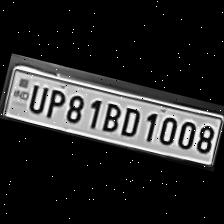0: (153, 110, 180, 146), (172, 114, 198, 150)
1: (135, 106, 161, 144), (82, 95, 106, 131)
8: (60, 89, 88, 126), (190, 118, 216, 154)
B: (96, 98, 122, 135)
D: (116, 102, 144, 139)
P: (40, 84, 67, 121)
U: (24, 80, 50, 116)
